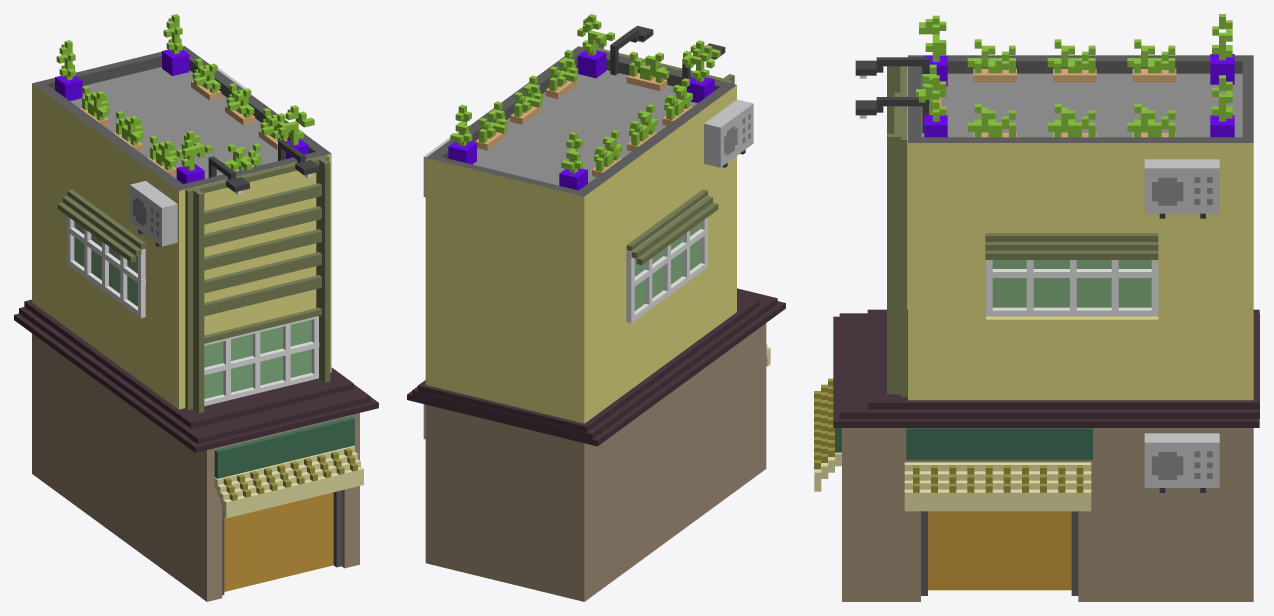
The model's file is Building_5.FBX.
The picture shows the model from 3 angles, left to right: view 1: azimuth 30°, elevation 25°; view 2: azimuth 150°, elevation 25°; view 3: azimuth 270°, elevation 25°; orthographic projection. The views are drawn at different scales.
Visible parts, largest first — view 1: Building_5; view 2: Building_5; view 3: Building_5.
Part boxes in pixels (x1,y1,x2,y2): Building_5: (14, 14, 378, 601); Building_5: (407, 14, 785, 601); Building_5: (814, 14, 1259, 601).
Size of the model in its own units: 74.53 by 163 by 129.
Materials: 1 (1 with a texture image).
